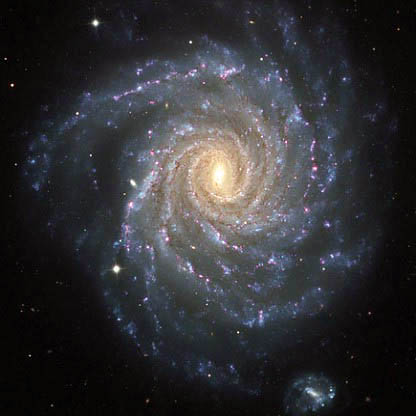NGC 1232: (29, 16, 382, 413)
